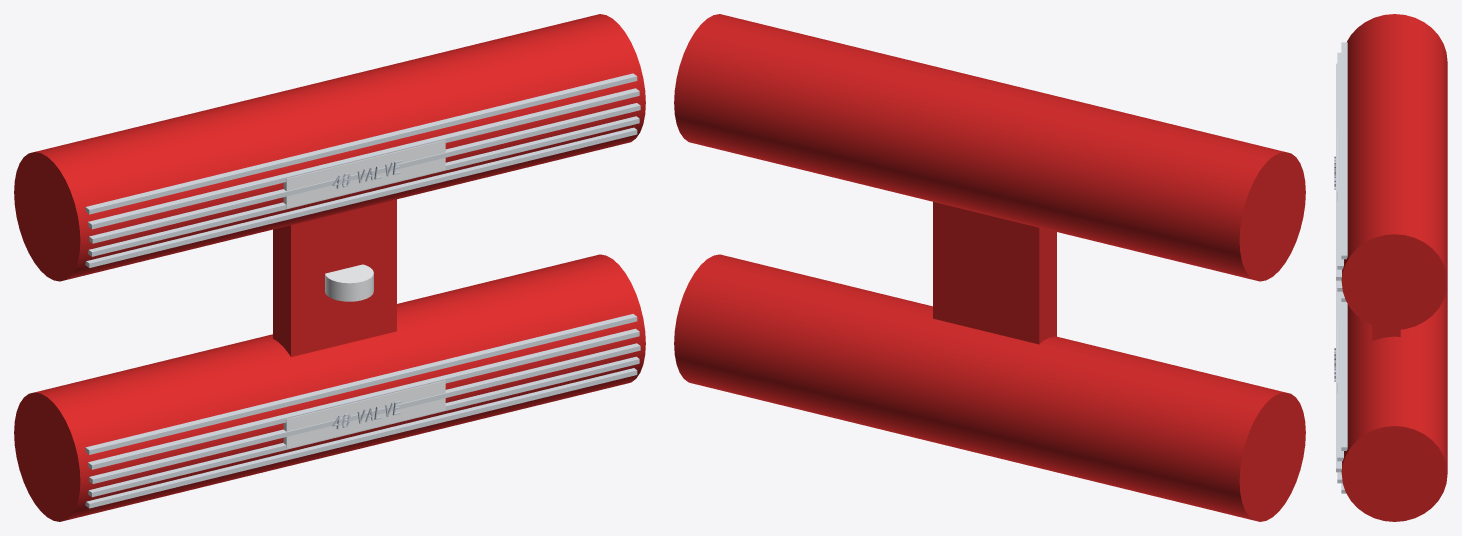
Rendered from engine_cover_heritage_wrinkle.glb.
3 renders of one model, left to right at view 1: azimuth 30°, elevation 25°; view 2: azimuth 150°, elevation 25°; view 3: azimuth 270°, elevation 25°, orthographic. The views are drawn at different scales.
Visible parts, largest first — view 1: Model4_Heritage_Wrinkle_Dual_Plenum; view 2: Model4_Heritage_Wrinkle_Dual_Plenum; view 3: Model4_Heritage_Wrinkle_Dual_Plenum.
Part boxes in pixels (x1,y1,x2,y2): Model4_Heritage_Wrinkle_Dual_Plenum: (14, 14, 645, 521); Model4_Heritage_Wrinkle_Dual_Plenum: (674, 14, 1305, 521); Model4_Heritage_Wrinkle_Dual_Plenum: (1334, 14, 1447, 521).
Bounding box in the file's own units: 0.64 × 0.39 × 0.139.
